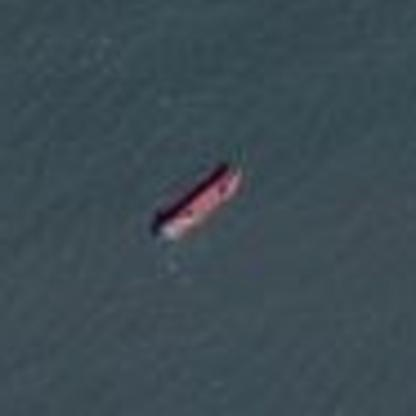ship: (147, 156, 248, 249)
